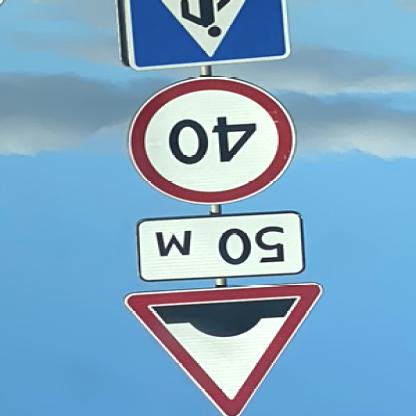crosswalk: (125, 1, 290, 71)
speedlimit: (132, 77, 298, 207)
